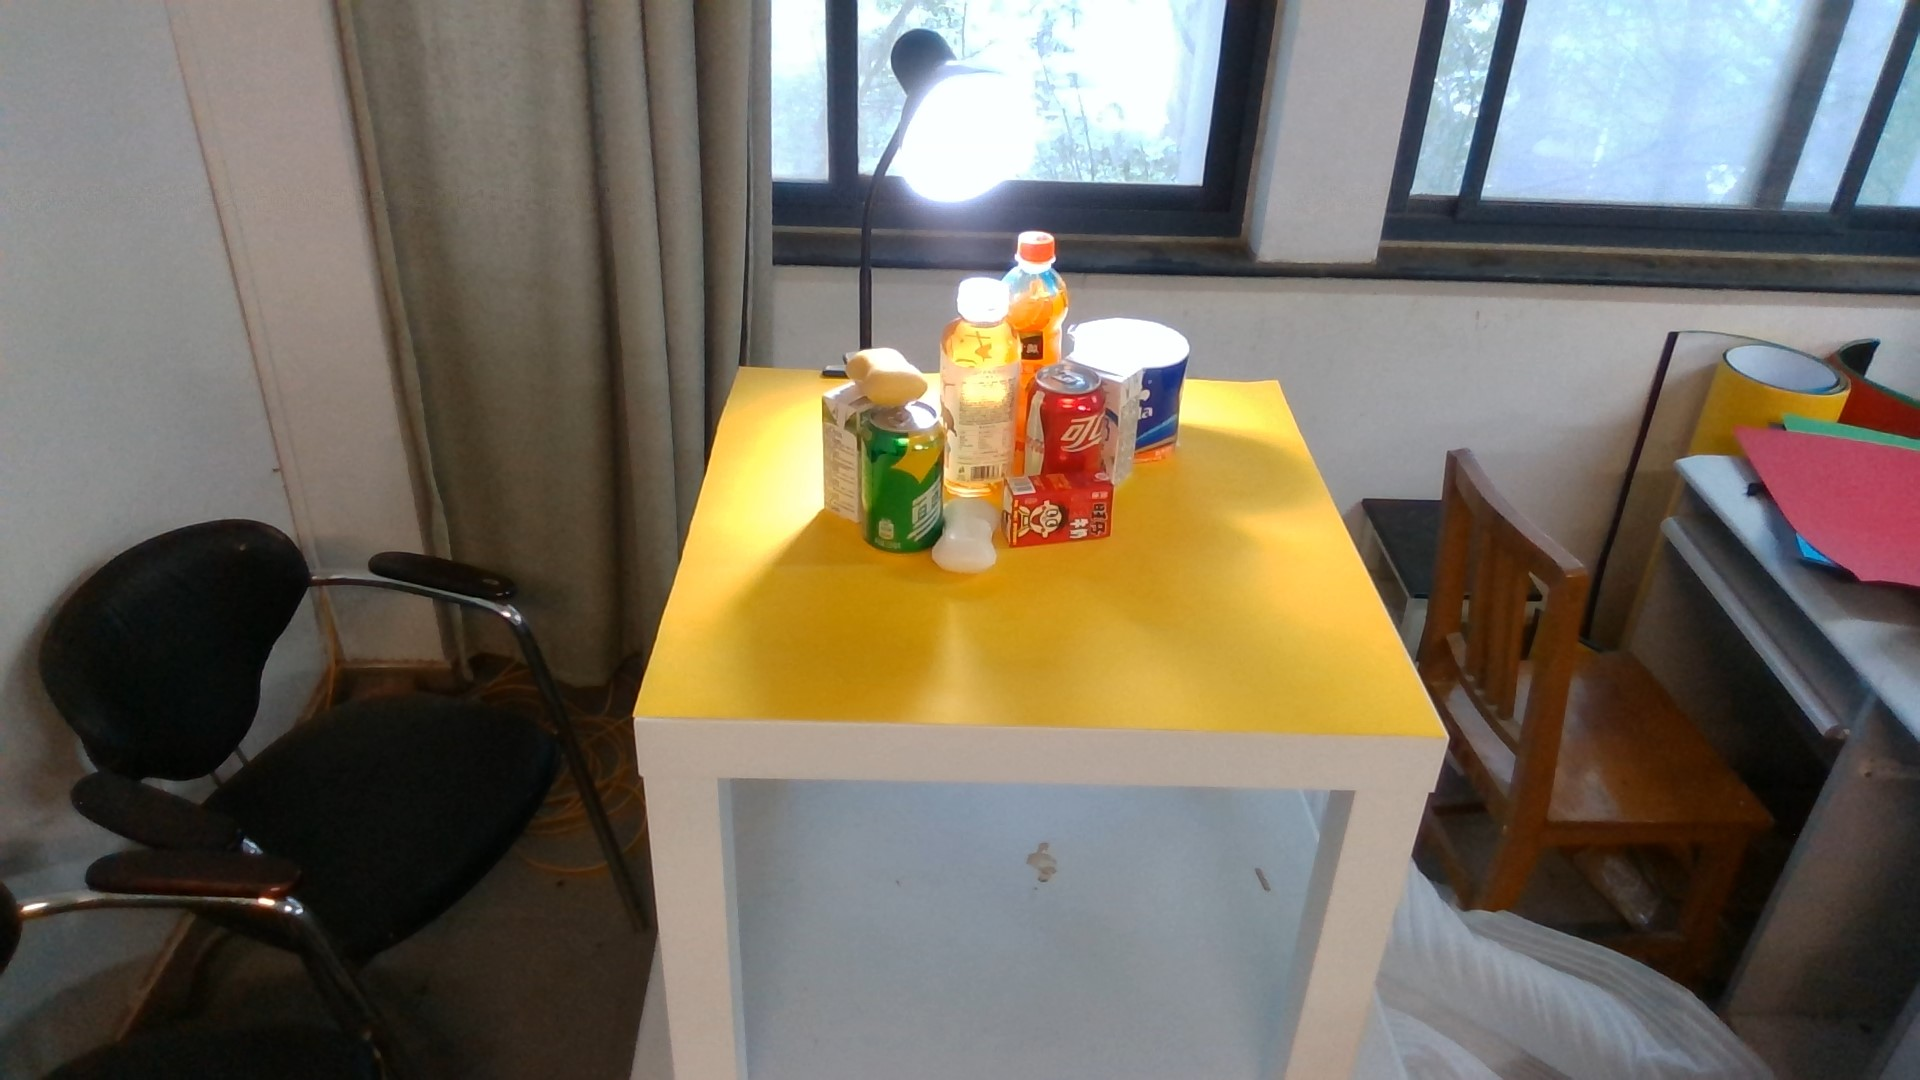BB003: (844, 342, 927, 406), (938, 502, 1000, 578)
BB009: (822, 389, 858, 521)
BB012: (1004, 475, 1116, 545)
BB013: (1102, 363, 1137, 471)
CA002: (1143, 316, 1188, 463)
ZC001: (862, 407, 936, 556)
ZC002: (1026, 367, 1102, 477)
ZC006: (1021, 227, 1069, 363)
ZC012: (949, 282, 1023, 477)
